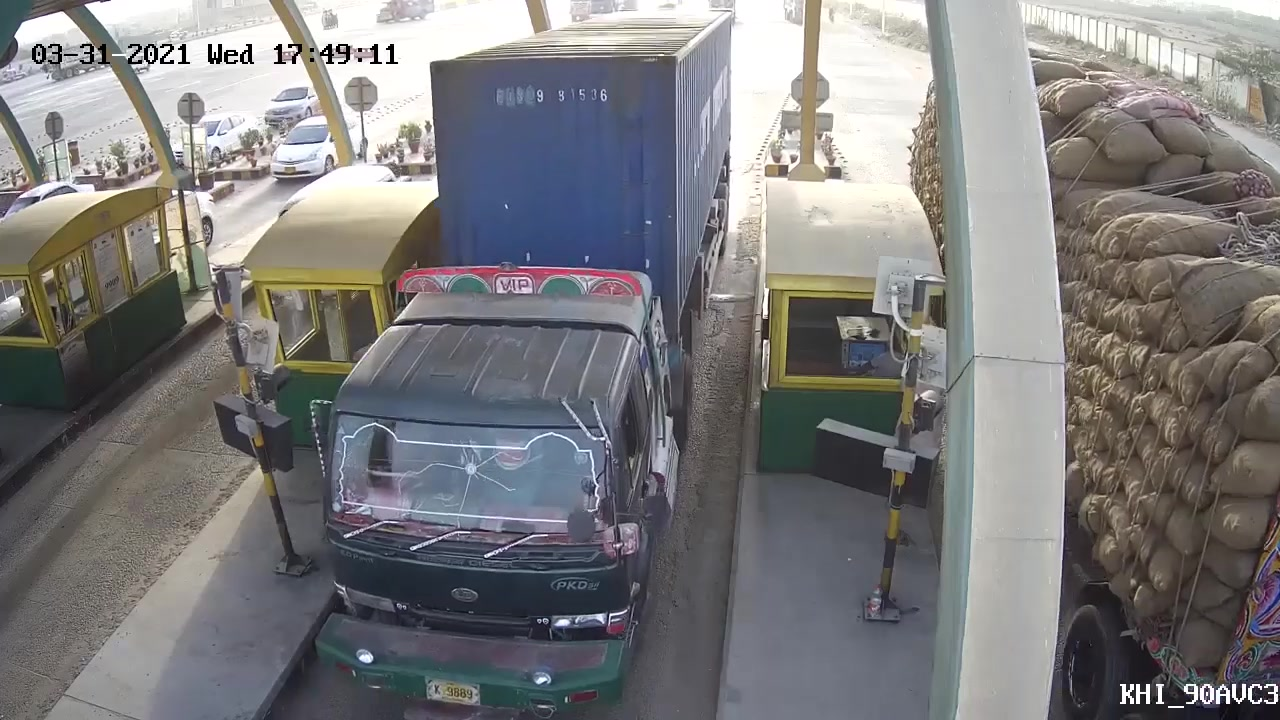F6: (313, 6, 743, 720)
